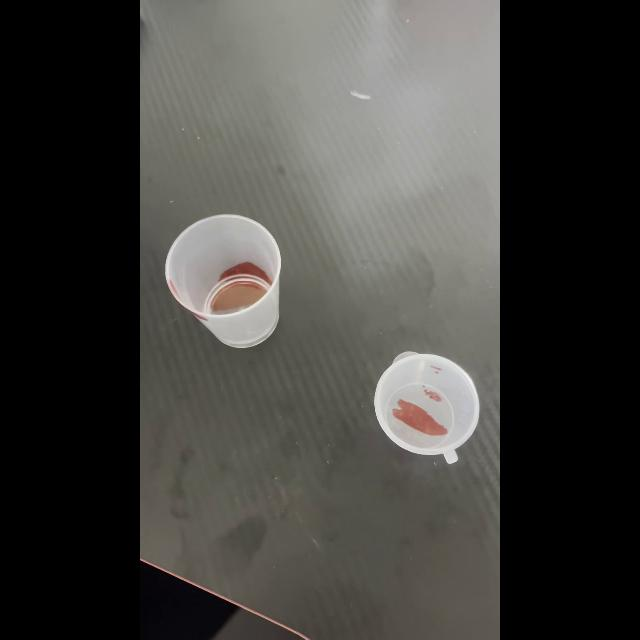dirty: (168, 213, 290, 353), (371, 349, 483, 465)
